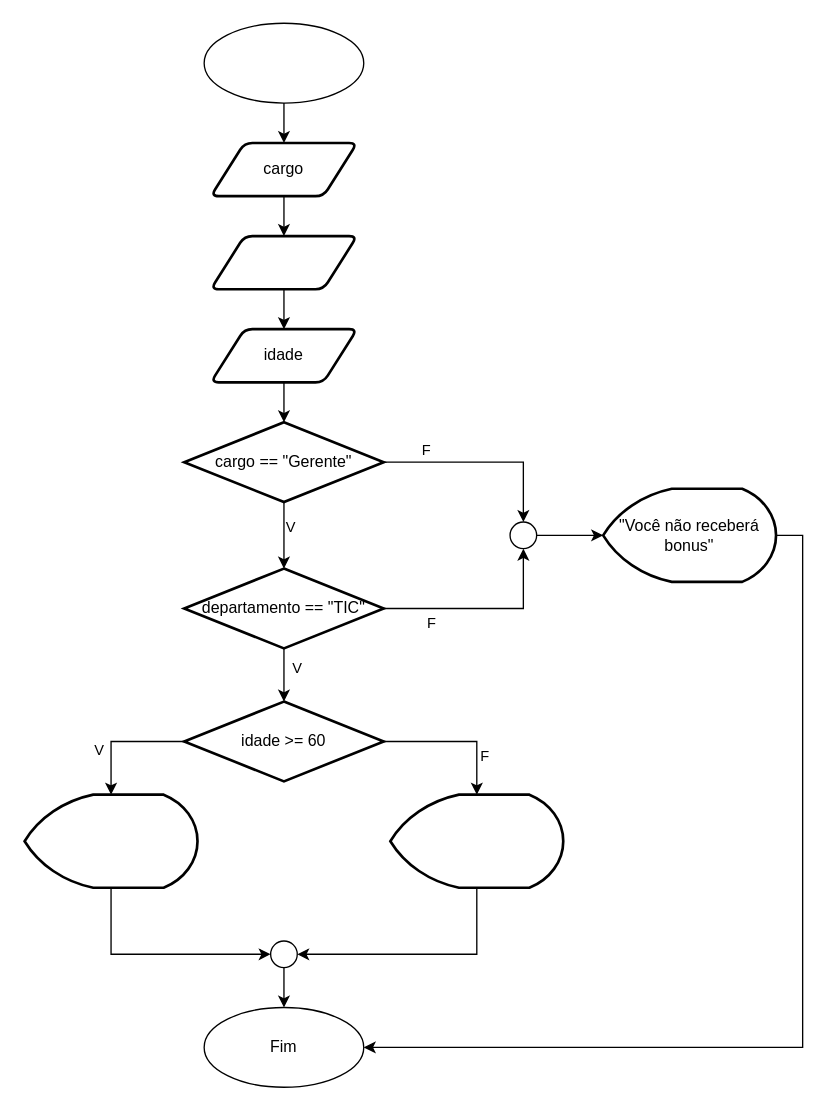
Some shapes in this 837 by 1111 pixel diagram are drawn without their labels. Here are the shapes that lost their labels. From the top down, the box of each, then its label:
(203, 22, 364, 103): Inicio
(209, 234, 358, 290): departamento
(23, 793, 198, 888): "Você receberá bonus plus"
(388, 793, 564, 888): "Você receberá bonus"
